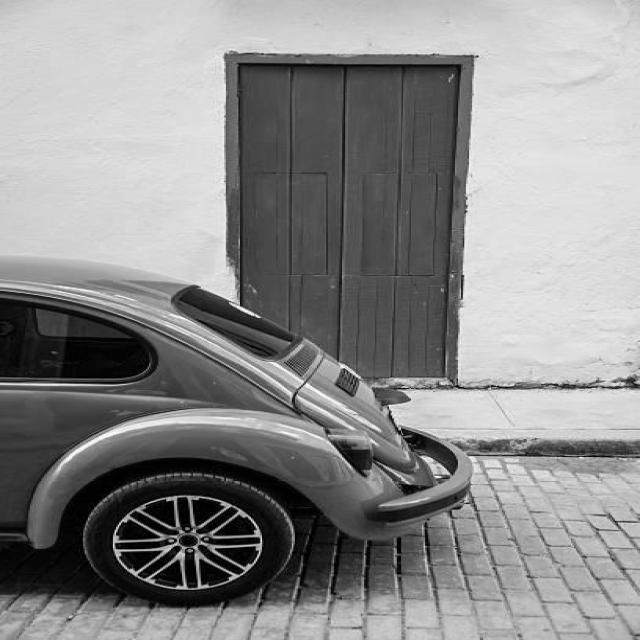car: (2, 266, 472, 576)
